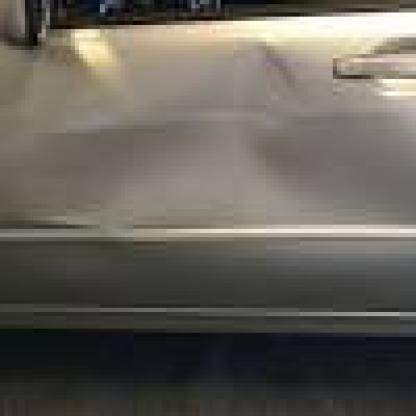dent: (237, 35, 295, 106)
